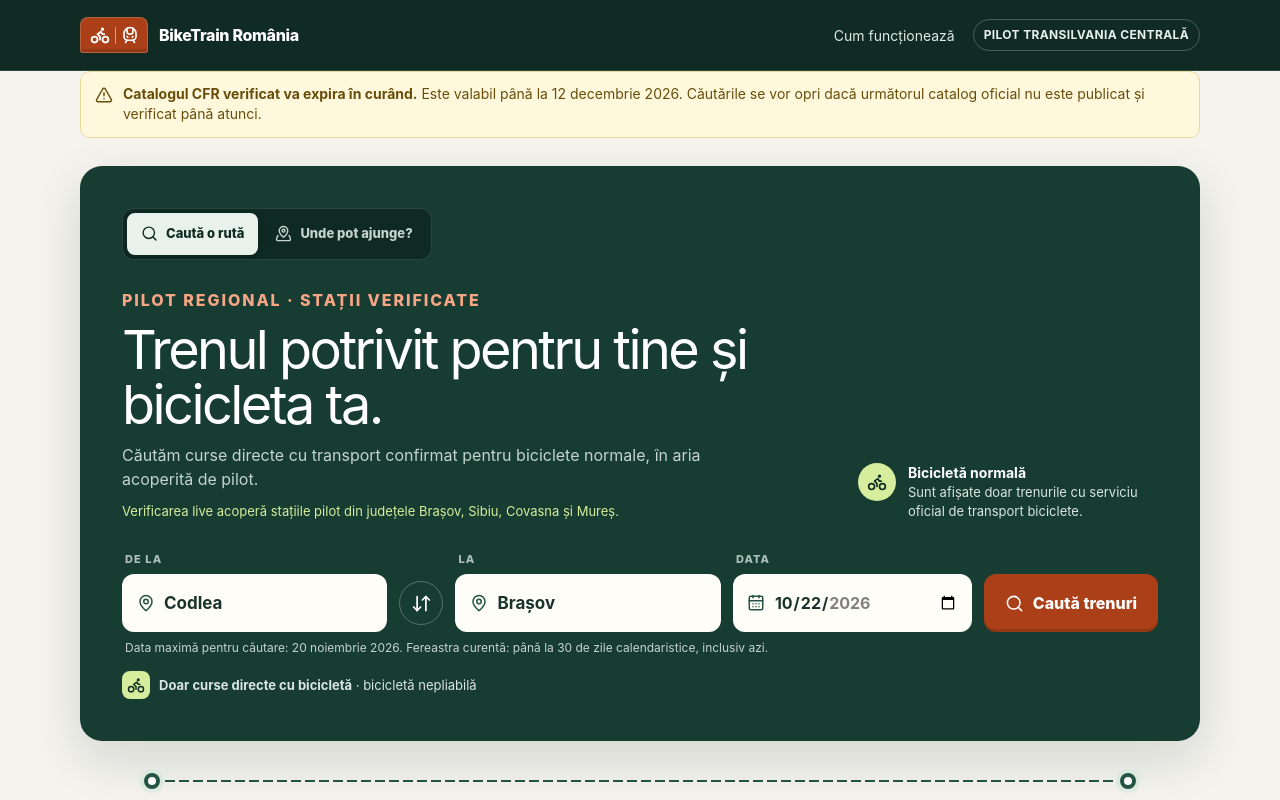
BikeTrain app › does not search with free text that is not a selected station
Replace the text in the dropdown labelled "De la" with "Oraș imaginar" at (268, 604), box left=164, top=576, right=372, bottom=630
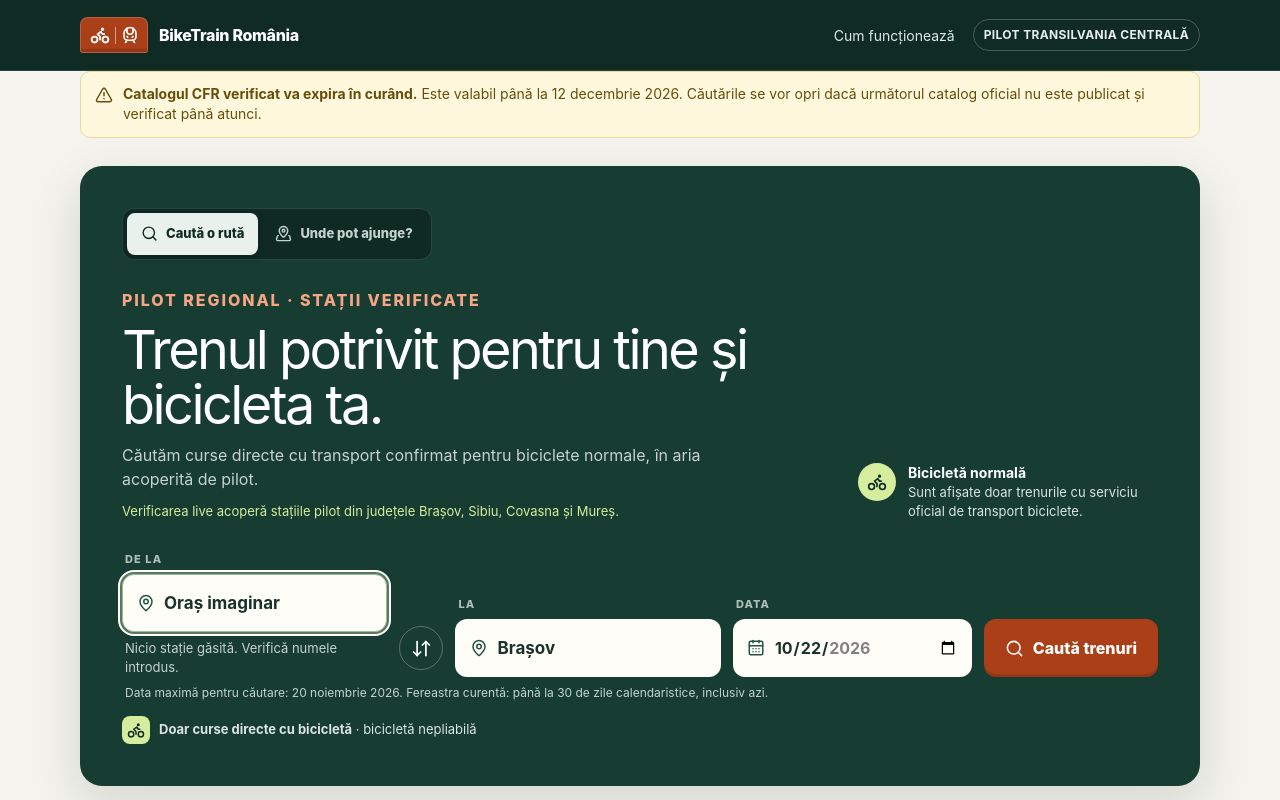
Click the button "Caută trenuri" at (1071, 648), box left=984, top=619, right=1158, bottom=677
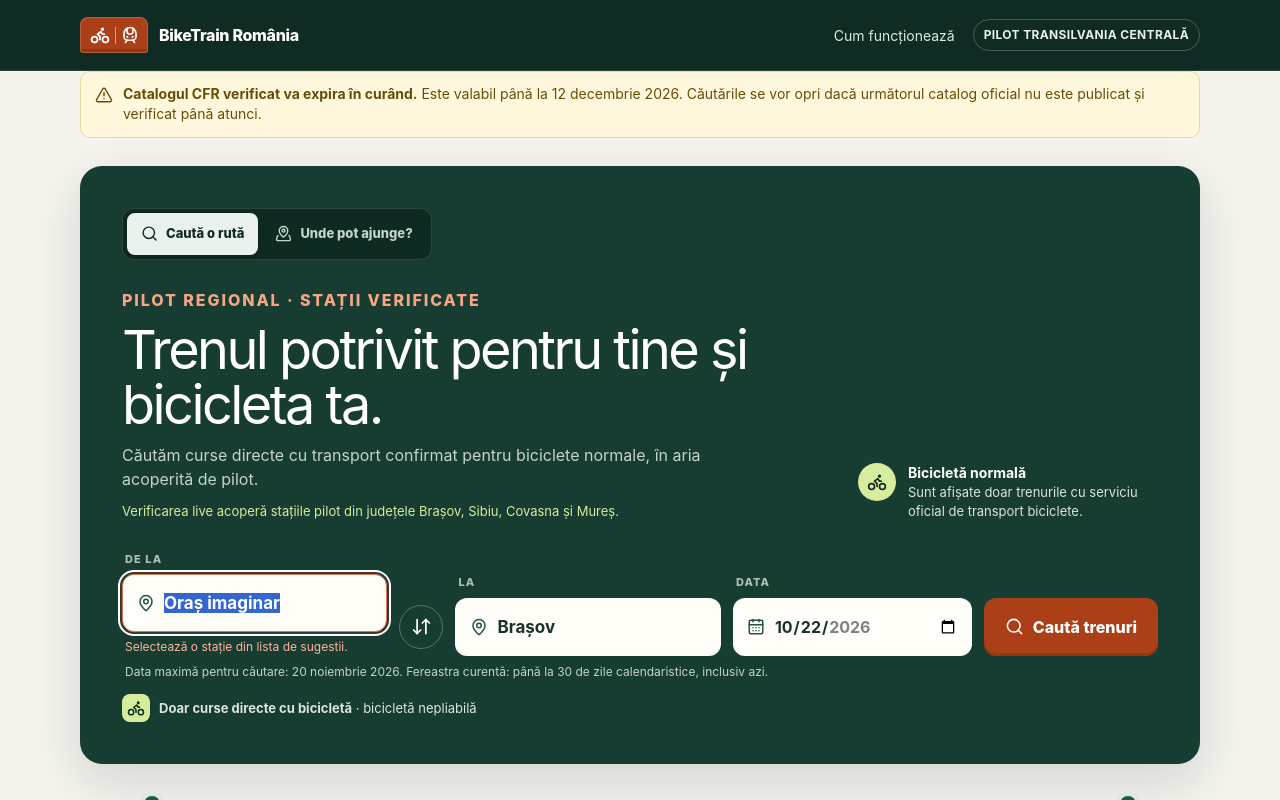
Now the text "Selectează o stație din lista de sugestii." is shown, box left=125, top=640, right=384, bottom=656
